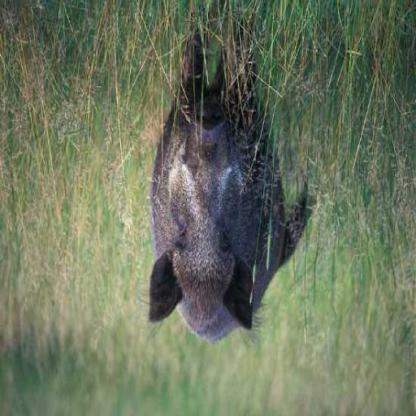boar: (108, 41, 354, 344)
